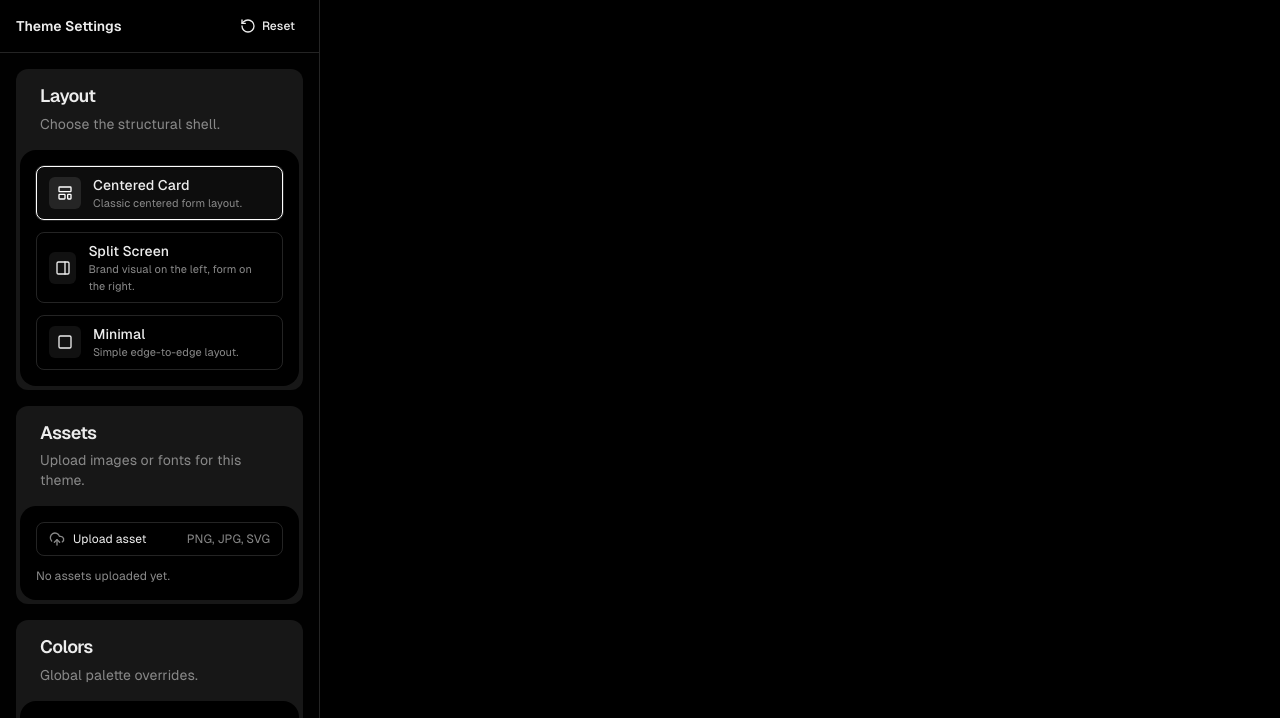
FluidThemeSettingsPanel › confirms before resetting theme settings
What coordinates should you click on to do the following:
click the button "Reset"
I would click on:
 (267, 26)
Its box is x1=232 y1=12 x2=303 y2=40.
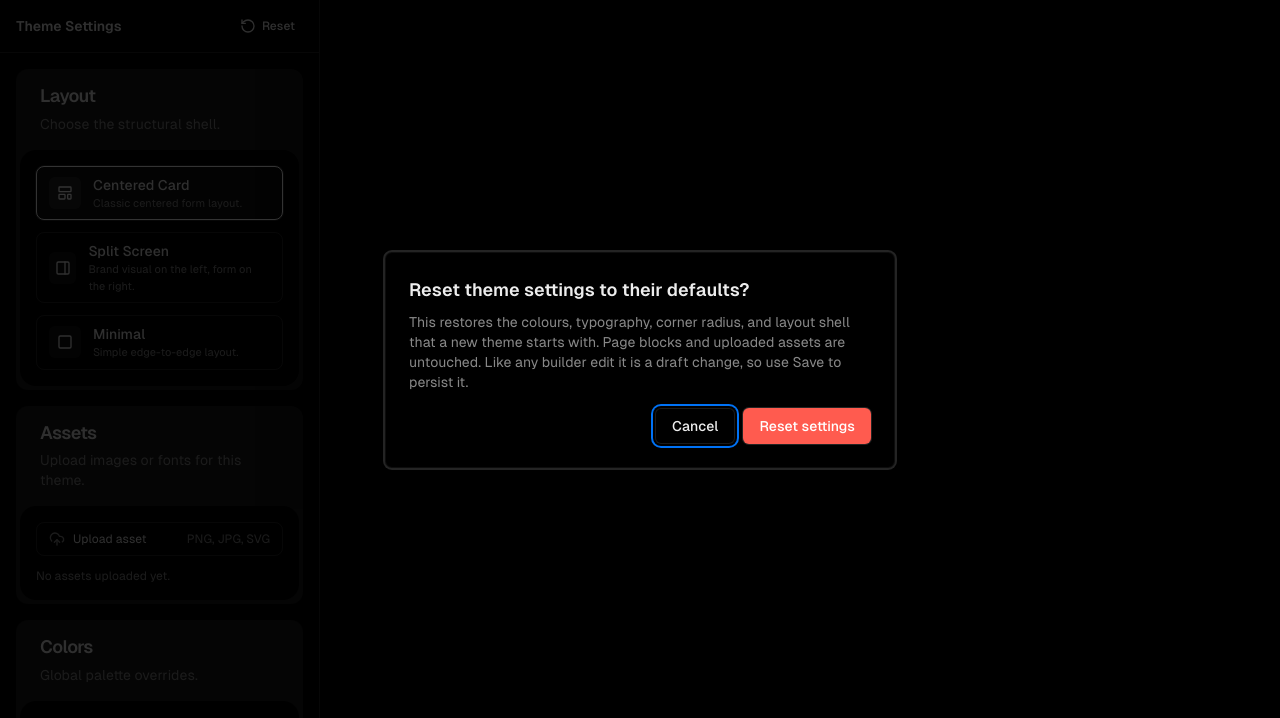
Expected: the heading "Reset theme settings to their defaults?" is shown, x1=409 y1=279 x2=750 y2=300
Expected: the text "Page blocks and uploaded assets are untouched" is shown, x1=409 y1=314 x2=850 y2=390
